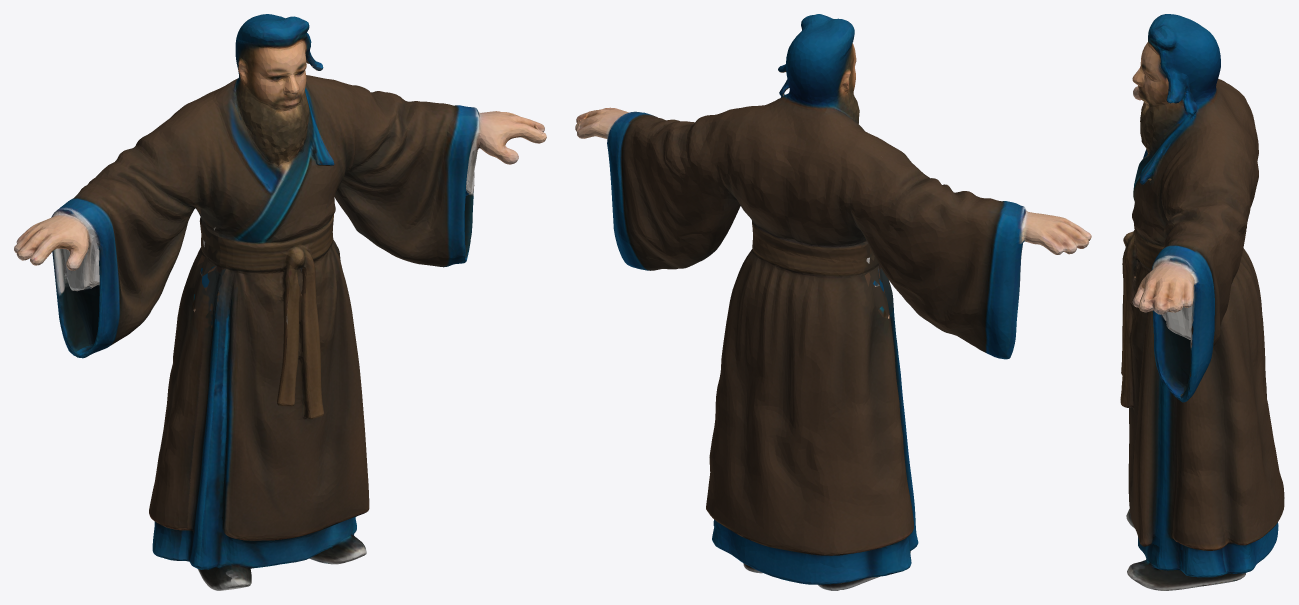
3 renders of one model, left to right at view 1: azimuth 30°, elevation 25°; view 2: azimuth 150°, elevation 25°; view 3: azimuth 270°, elevation 25°, orthographic. The views are drawn at different scales.
Parts seen in each view (by area): view 1: tmpfj5gbtj8.ply; view 2: tmpfj5gbtj8.ply; view 3: tmpfj5gbtj8.ply.
Part boxes in pixels (left/top/right/bottom): tmpfj5gbtj8.ply: left=14, top=14, right=546, bottom=590; tmpfj5gbtj8.ply: left=575, top=14, right=1091, bottom=590; tmpfj5gbtj8.ply: left=1120, top=14, right=1284, bottom=590.
Size of the model in its own units: 1.96 by 1.96 by 0.5454.
1 material, 1 textured.
